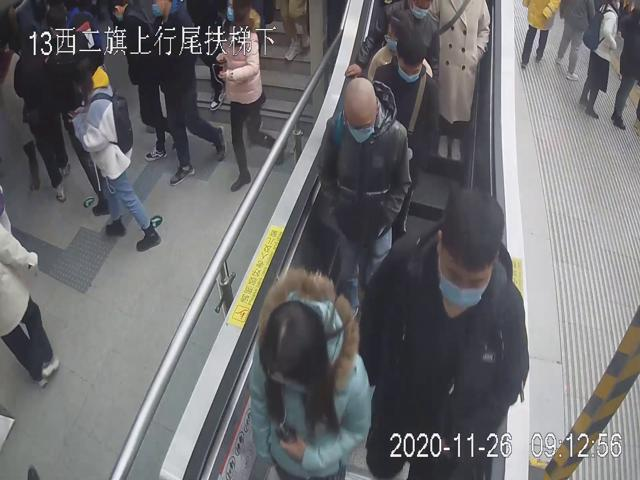person: (356, 184, 532, 480), (251, 264, 373, 479), (314, 72, 412, 299), (72, 52, 162, 254), (215, 0, 287, 192), (372, 32, 440, 233), (366, 8, 433, 84)
